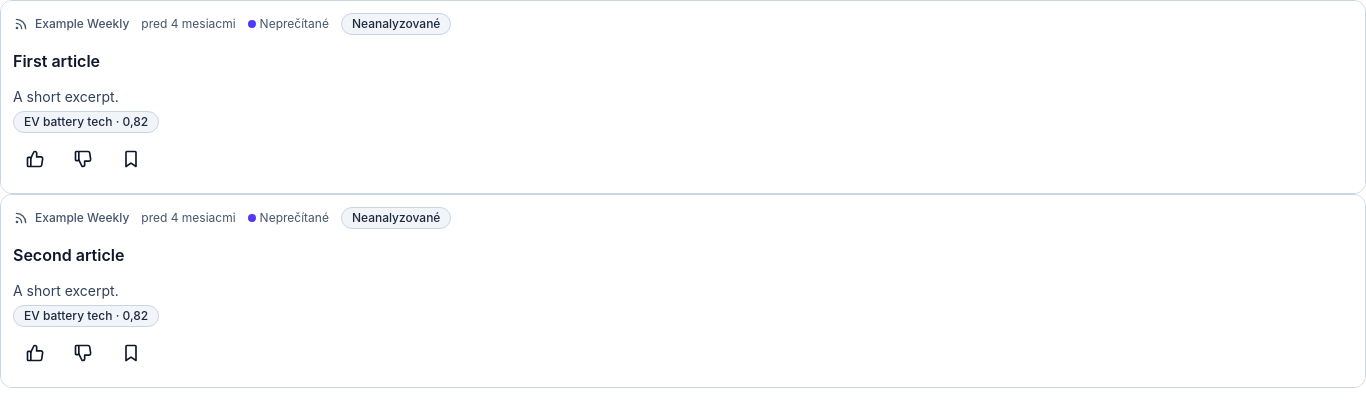
it: a row whose article has a change waiting to be sent › says so in Slovak
Click the 1st button named "Páči sa mi" at (35,159), box [13,137,57,181]
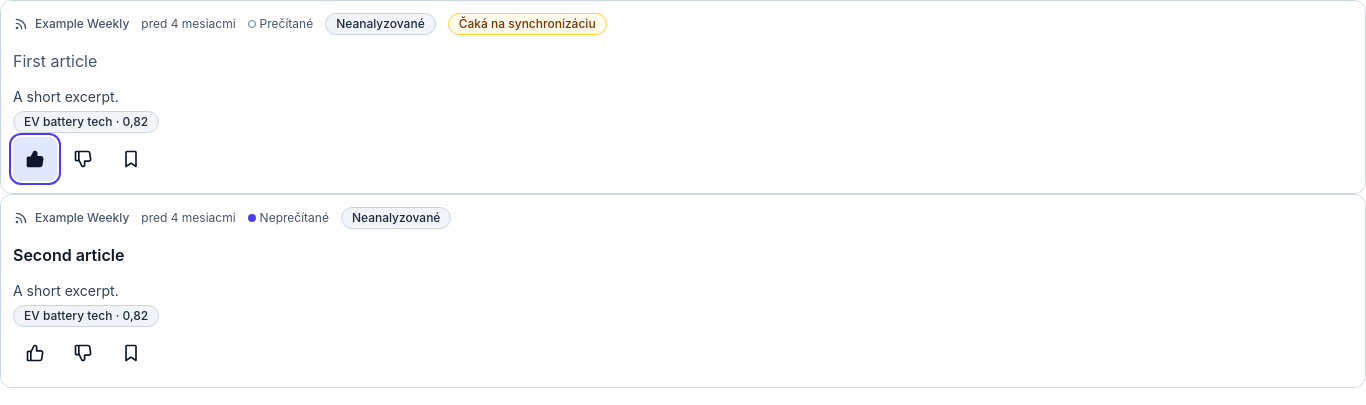
Now the text "Čaká na synchronizáciu" is shown, box [448,13,607,35]
